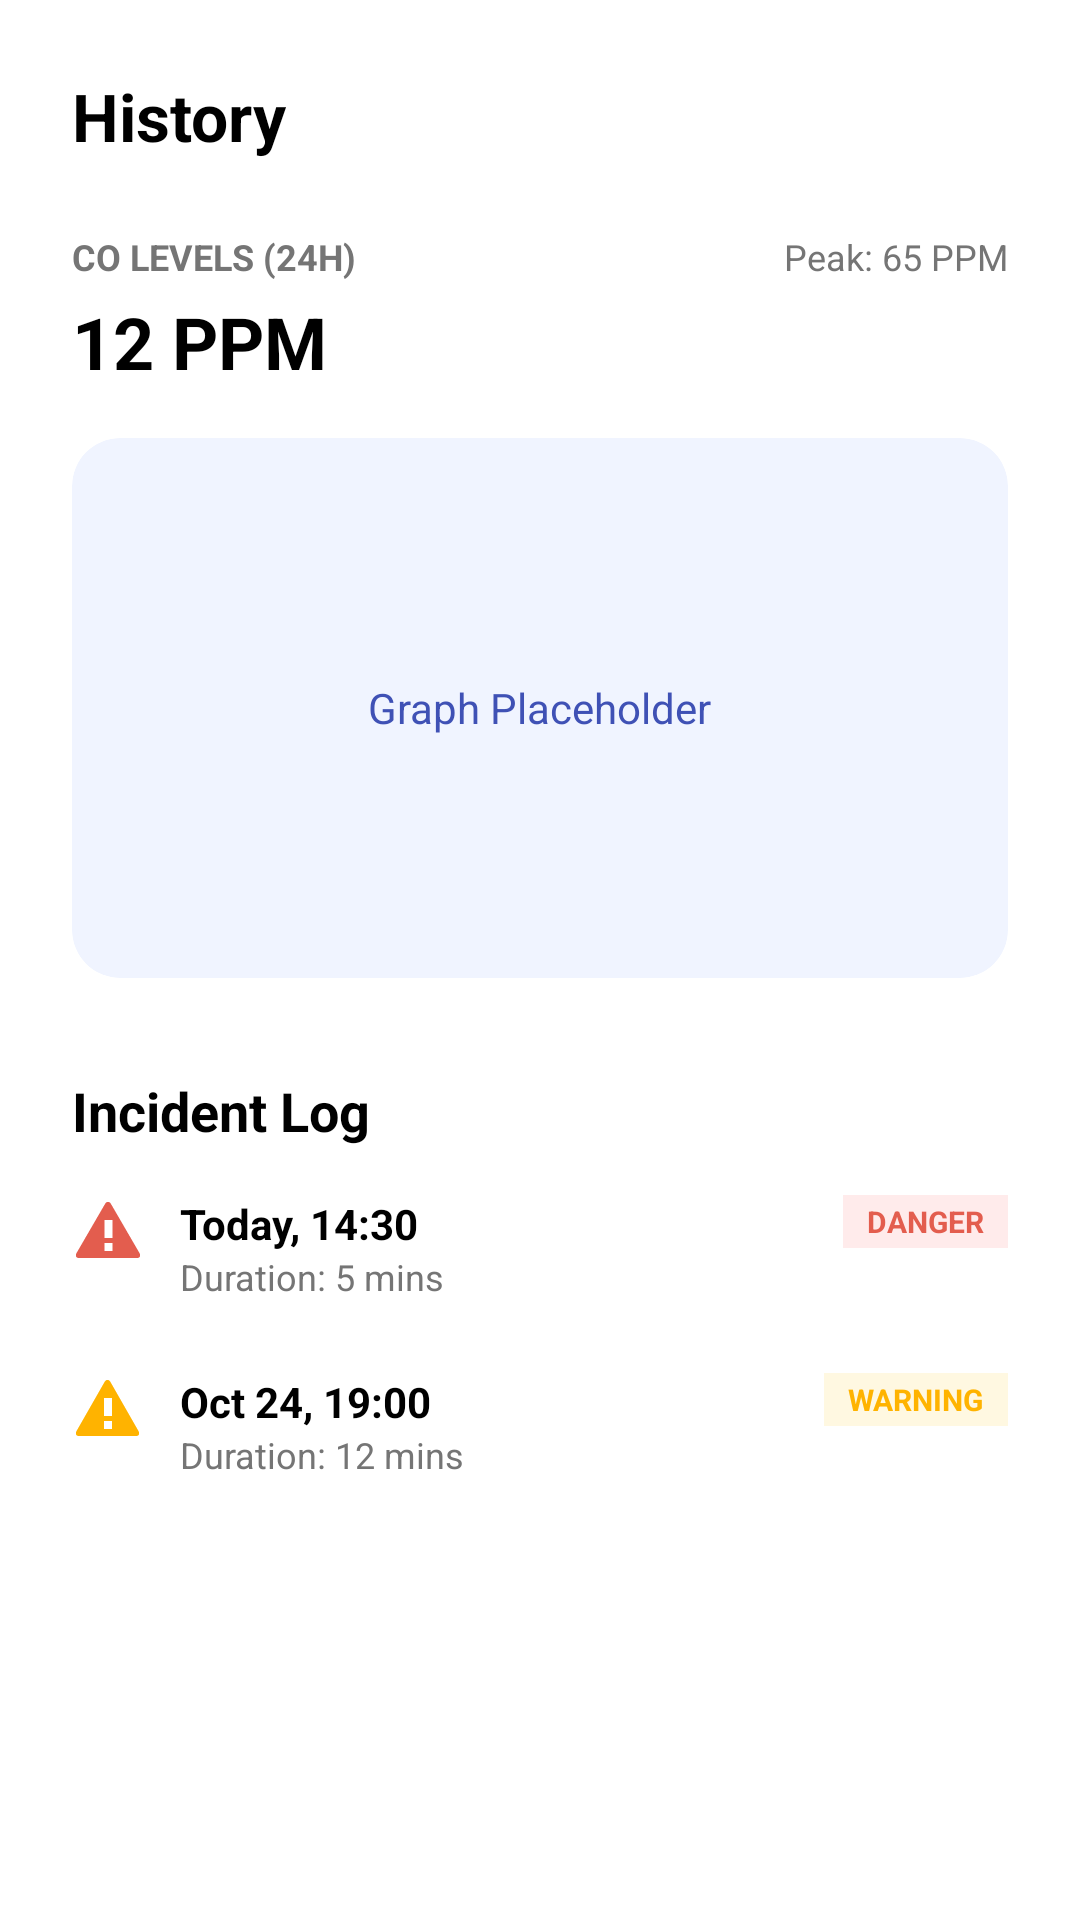

Screen size 1080 × 1920. Icon name, then its box in pixels as (x1, y1, x2, y2):
error: (76, 1202, 140, 1258)
warning: (76, 1380, 139, 1436)
